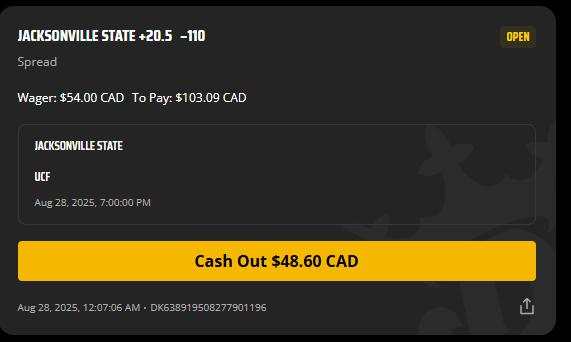game: (33, 139, 124, 184)
odds: (179, 27, 209, 46)
payout: (174, 90, 220, 107)
wager: (59, 91, 99, 107)
